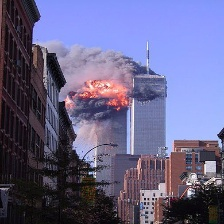fire: (83, 82, 124, 97)
smoke: (45, 43, 165, 118)
